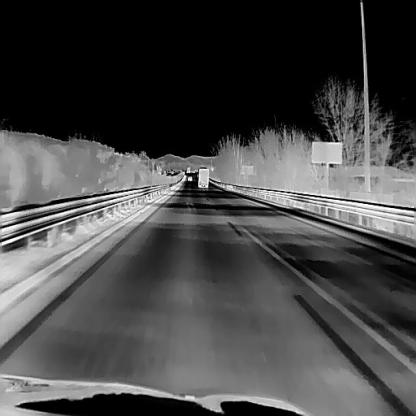car: (186, 173, 192, 180)
truck: (196, 166, 209, 187)
